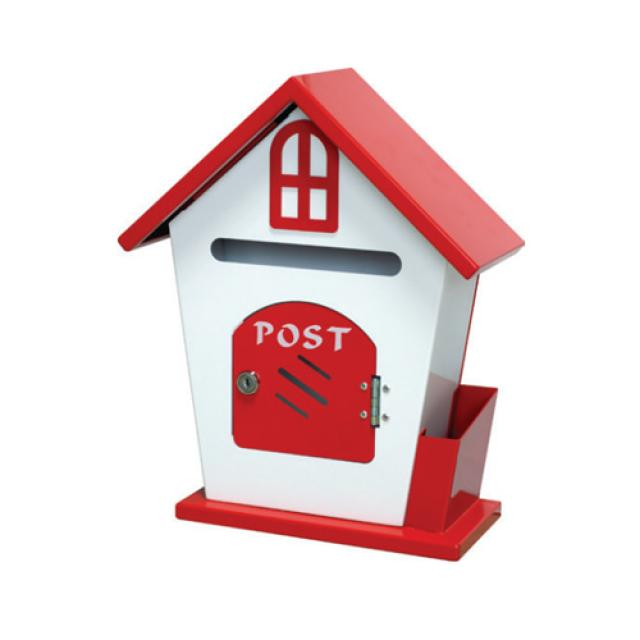Post Box: (112, 62, 527, 582)
